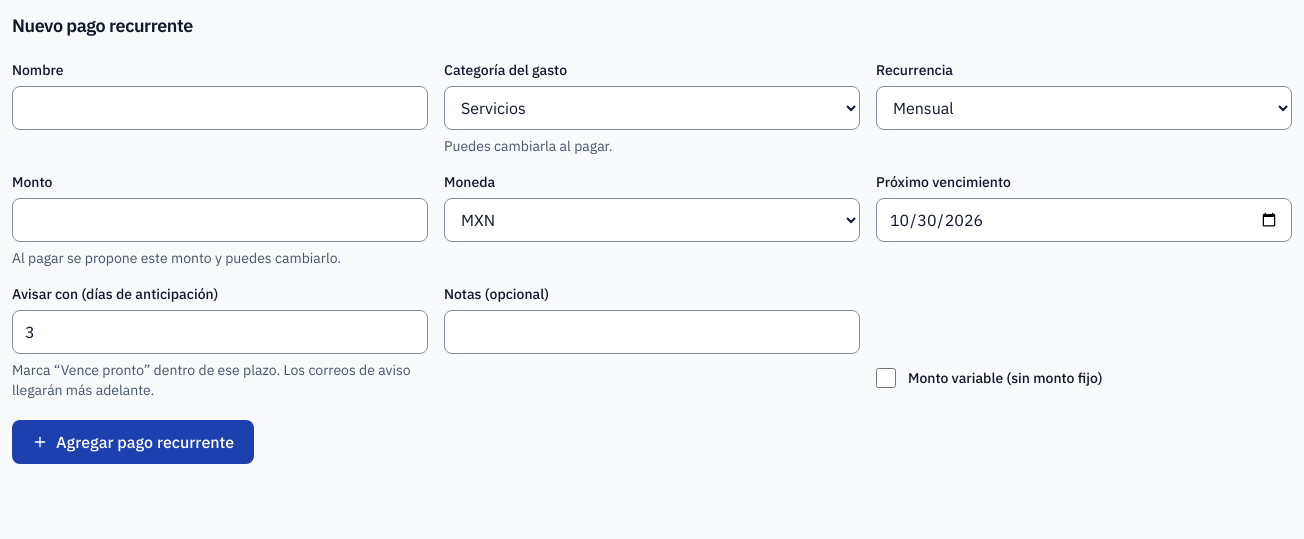
Test case: BillForm › shows the API error
Type "x" into the field labelled "Nombre" at (220, 108), box [12, 86, 428, 130]
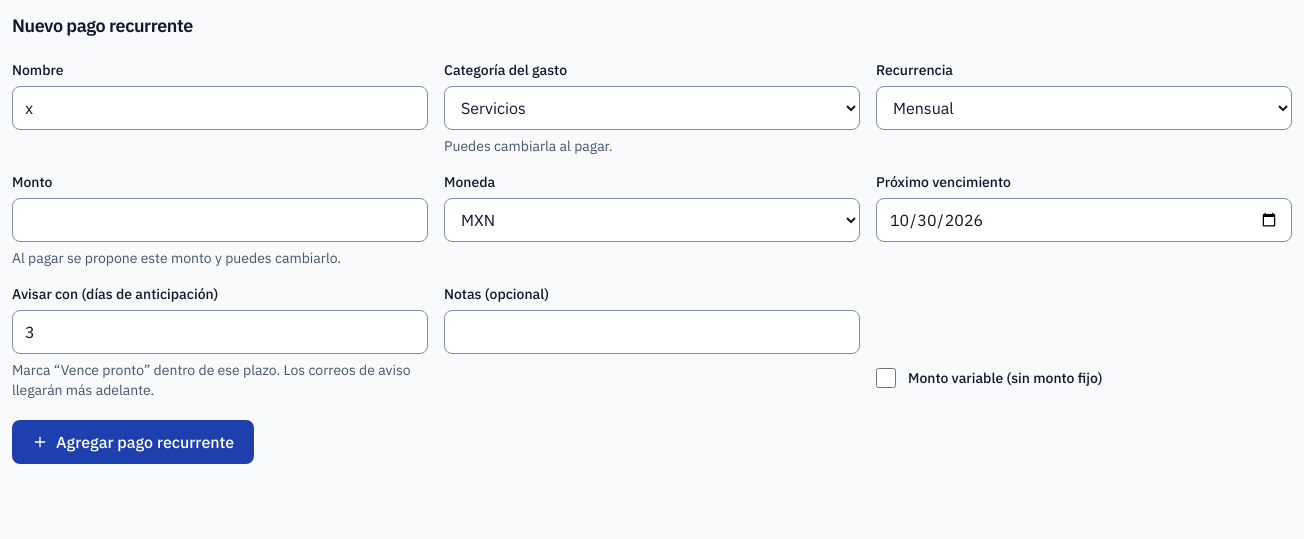
Type "1" into the field labelled "Monto" at (220, 220), box [12, 198, 428, 242]
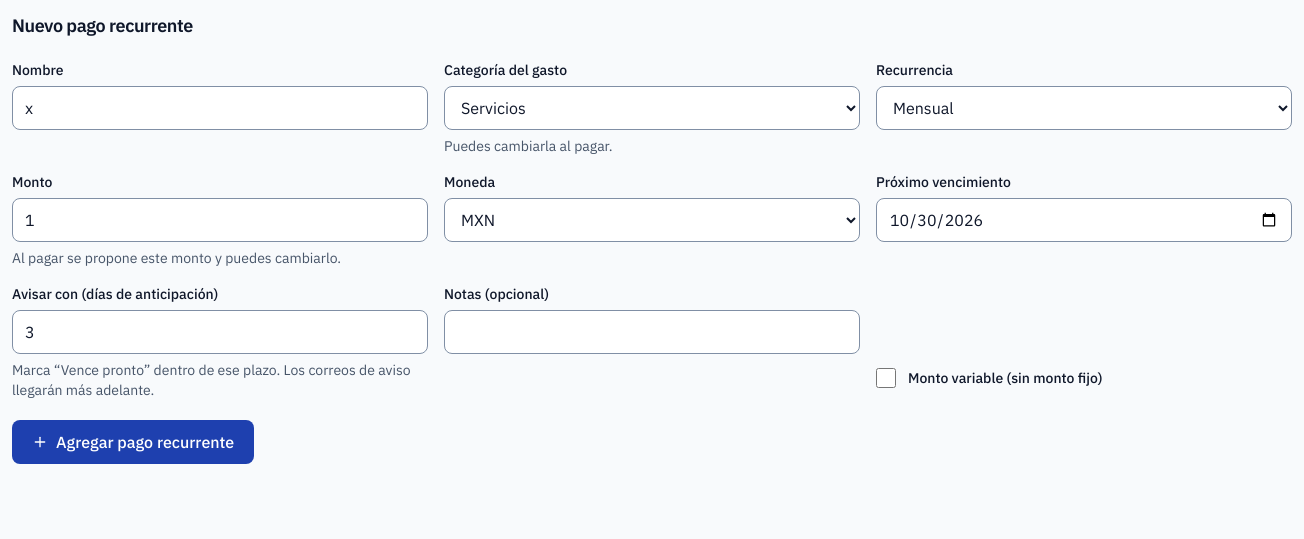
Click the button "Agregar pago recurrente" at (133, 442), box [12, 420, 254, 464]
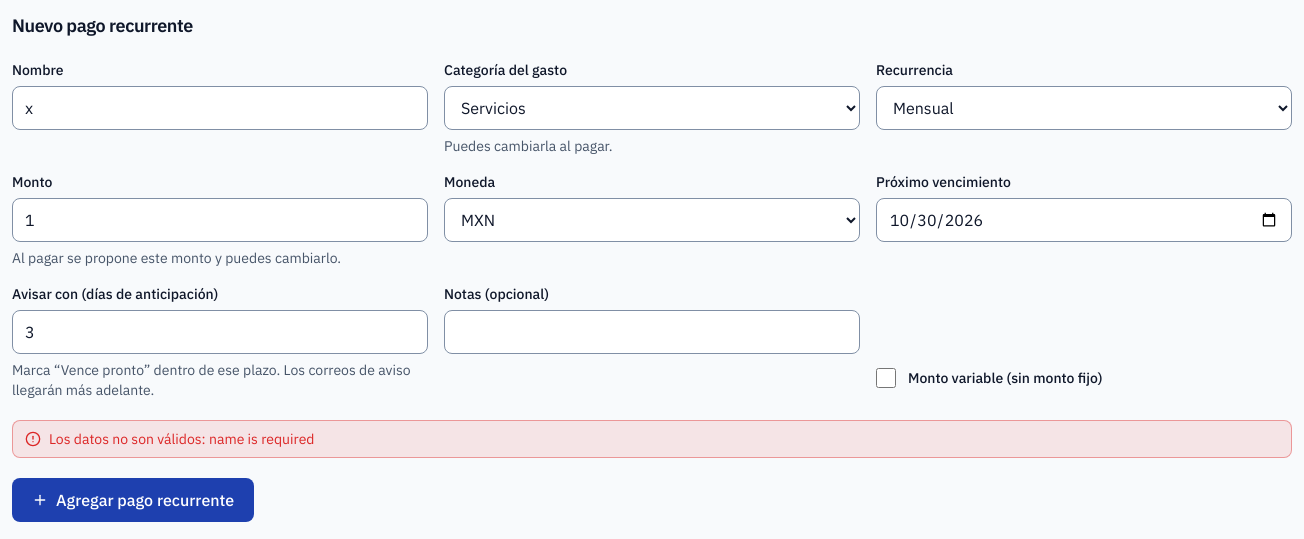
Expected: the message reads "Los datos no son válidos: name is required", [49, 430, 314, 448]
